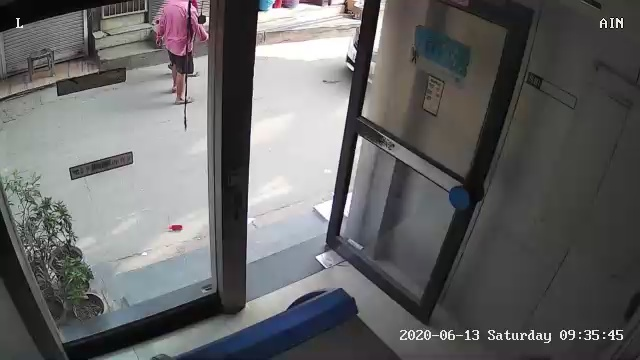open: (198, 6, 537, 341)
